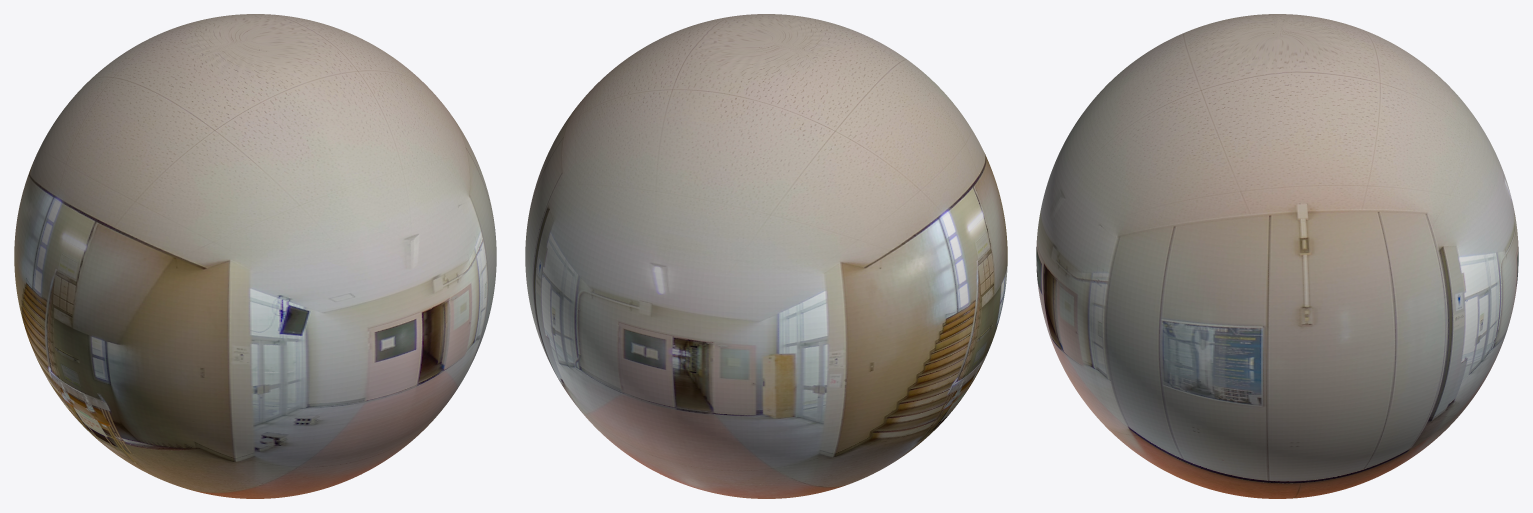
Rendered from kaidan2.fbx.
3 views of the same model, side by side, from view 1: azimuth 30°, elevation 25°; view 2: azimuth 150°, elevation 25°; view 3: azimuth 270°, elevation 25° (orthographic).
Parts seen in each view (by area): view 1: 球; view 2: 球; view 3: 球.
Boxes of the visible parts, x1=… form: 球: x1=14, y1=14, x2=496, y2=498; 球: x1=525, y1=14, x2=1007, y2=498; 球: x1=1036, y1=14, x2=1518, y2=498.
Bounding box in the file's own units: 197 × 196 × 197.
Materials: 1 (1 with a texture image).
